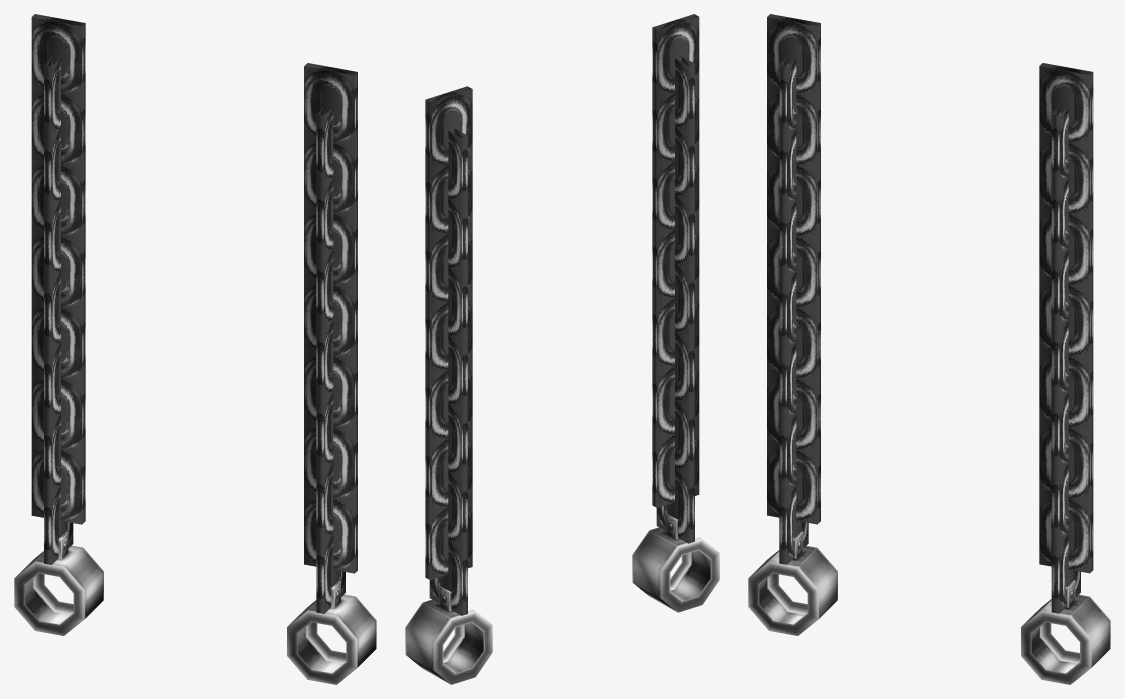
Rendered from SWORDLIGHT20_INST_CHAINCUFFS_LOD1_04.fbx.
3 renders of one model, left to right at view 1: azimuth 90°, elevation 25°; view 2: azimuth 150°, elevation 25°; view 3: azimuth 270°, elevation 25°, orthographic. The views are drawn at different scales.
Parts seen in each view (by area): view 1: SWORDLIGHT20_INST_CHAINCUFFS_LOD1_04; view 2: SWORDLIGHT20_INST_CHAINCUFFS_LOD1_04; view 3: SWORDLIGHT20_INST_CHAINCUFFS_LOD1_04.
Part boxes in pixels (left/top/right/bottom): SWORDLIGHT20_INST_CHAINCUFFS_LOD1_04: left=14, top=14, right=376, bottom=684; SWORDLIGHT20_INST_CHAINCUFFS_LOD1_04: left=405, top=14, right=719, bottom=684; SWORDLIGHT20_INST_CHAINCUFFS_LOD1_04: left=748, top=14, right=1110, bottom=684.
Bounding box in the file's own units: 3484 × 12114 × 6588.
2 materials, 2 textured.
